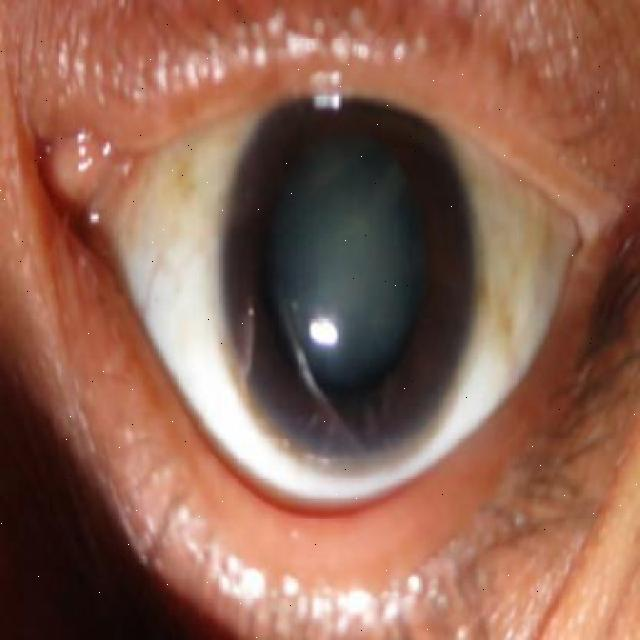Cataract: (224, 90, 478, 482)
